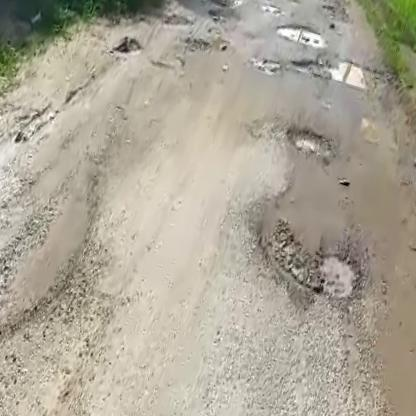pothole: (257, 218, 372, 308), (325, 55, 390, 98), (280, 121, 337, 162), (274, 21, 333, 52)
